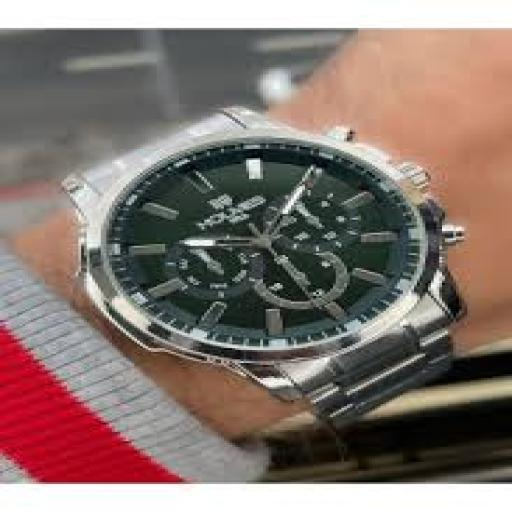KolSaati: (19, 97, 492, 435)
